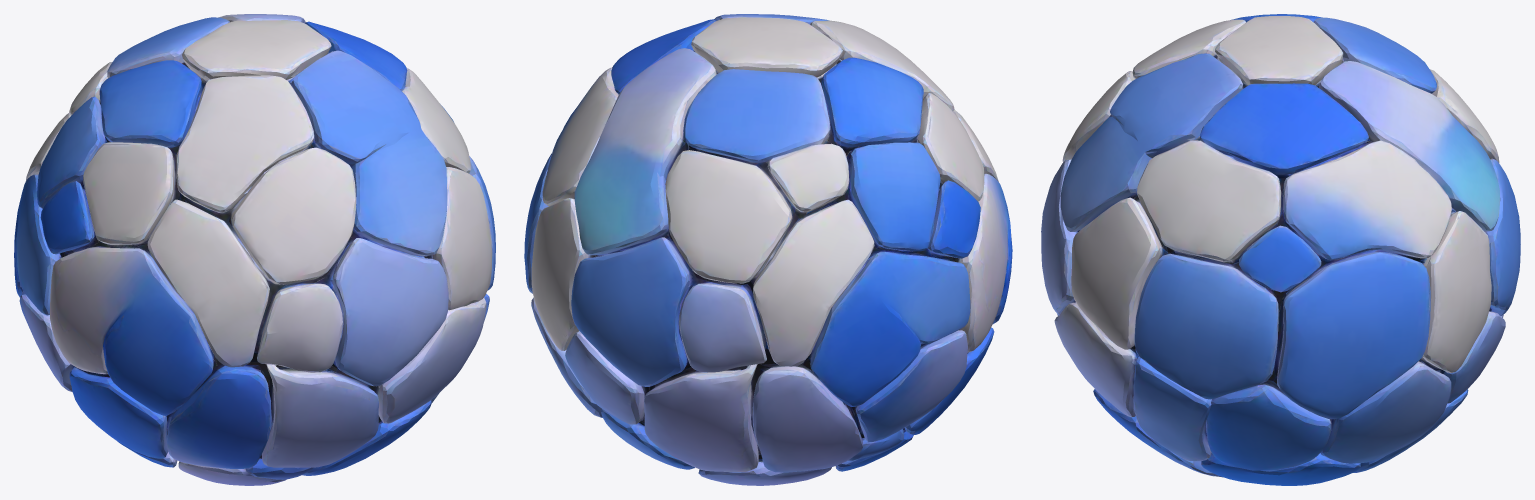
File: soccer-ball.glb
3 renders of one model, left to right at view 1: azimuth 30°, elevation 25°; view 2: azimuth 150°, elevation 25°; view 3: azimuth 270°, elevation 25°, orthographic.
Parts seen in each view (by area): view 1: Mesh; view 2: Mesh; view 3: Mesh.
Part boxes in pixels (x1,y1,x2,y2): Mesh: (14, 14, 495, 485); Mesh: (524, 14, 1012, 485); Mesh: (1041, 14, 1520, 485).
Bounding box in the file's own units: 0.9973 × 0.9633 × 1.
Materials: 1 (1 with a texture image).
